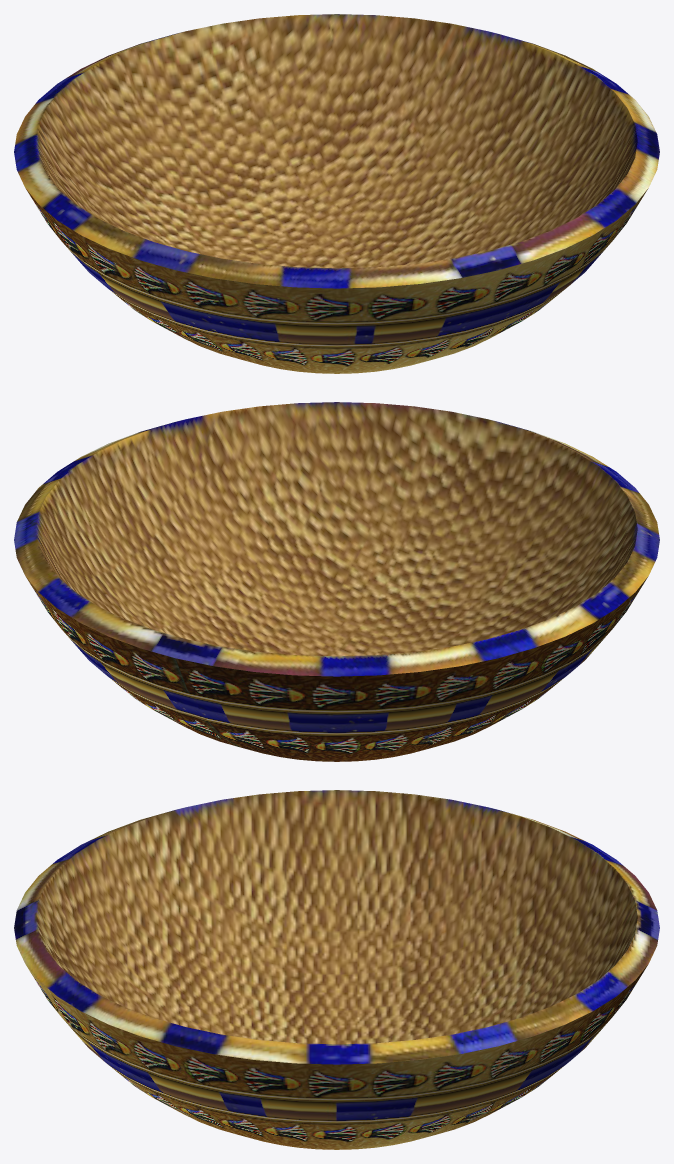
The model's file is Lamp 2.FBX.
3 views of the same model, one above another, from view 1: azimuth 30°, elevation 25°; view 2: azimuth 150°, elevation 25°; view 3: azimuth 270°, elevation 25° (orthographic).
Parts seen in each view (by area): view 1: Lamp fire 2; view 2: Lamp fire 2; view 3: Lamp fire 2.
Boxes of the visible parts, x1,y1,x2,y2 form: Lamp fire 2: (14,14,659,373); Lamp fire 2: (14,402,659,761); Lamp fire 2: (14,790,659,1149).
Size of the model in its own units: 712 by 243 by 712.
Materials: 1 (1 with a texture image).
